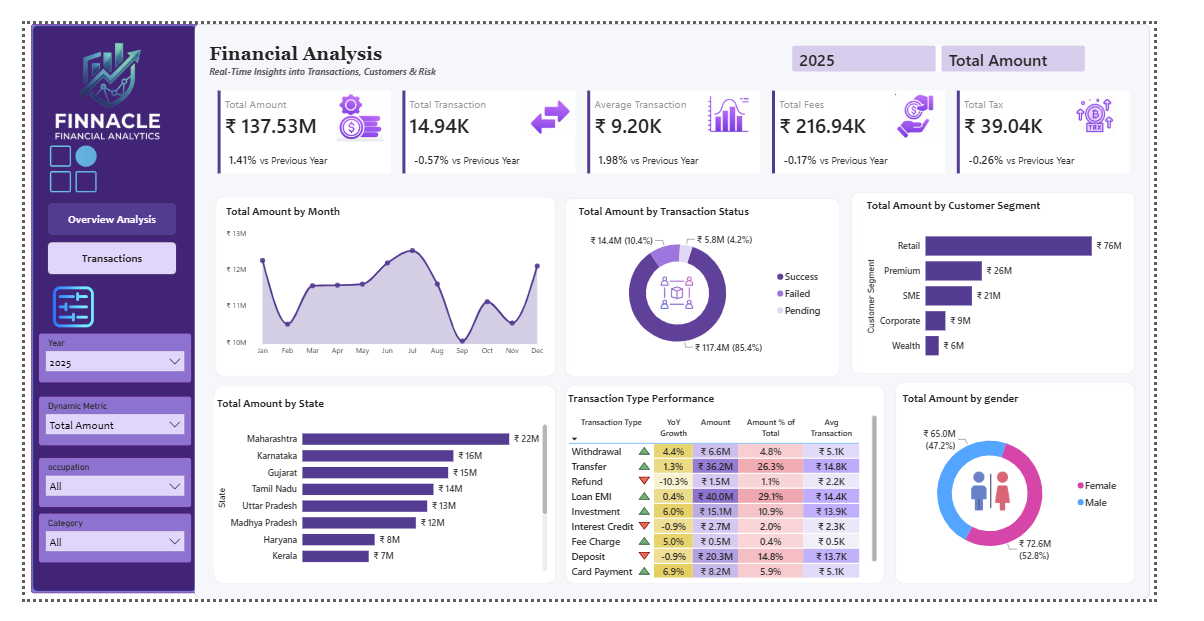

The page's visual inventory and layout, read from the dashboard file:
{"tool":"powerbi","page":{"name":"Overview Analysis","canvas":[1881,957],"ordinal":0},"visuals":[{"type":"shape","box":[10.6,0,279,948.7],"z":0},{"type":"shape","box":[282,0,1592.5,957.5],"z":1000},{"type":"image","box":[0,0,288.3,240],"z":2000},{"type":"cardVisual","fields":{"Data":["Calander table.Dashboard Title"]},"box":[290,2.5,418.8,115.4],"z":3000},{"type":"cardVisual","fields":{"Data":["finance_transactions.Total Amount","finance_transactions.Total Transaction","finance_transactions.Average Transaction","finance_transactions.Total Fees","finance_transactions.Total Tax"]},"box":[316,106,1535,150],"z":4000},{"type":"slicer","fields":{"Values":["Calander table.Year"]},"box":[22.5,515,255,83.3],"z":5000},{"type":"image","box":[516,118,86,78],"z":6000},{"type":"image","box":[838,118,76,78],"z":7000},{"type":"image","box":[1450,114,74,78],"z":8000},{"type":"image","box":[1128,118,92,64],"z":9000},{"type":"image","box":[1736,120,98,66],"z":10000},{"type":"slicer","fields":{"Values":["Dynamic Metric.Dynamic Metric"]},"box":[22.5,620,255,83],"z":11000},{"type":"shape","box":[316.7,286.7,566.7,300],"z":12000},{"type":"areaChart","fields":{"Y":["finance_transactions.Total Amount"],"Category":["Calander table.Month"]},"box":[330,300,545,262.5],"z":13000},{"type":"cardVisual","fields":{"Data":["finance_transactions.Selected Year","finance_transactions.Selected Dynamic Measure"]},"box":[1273.3,30,500,55],"z":14000},{"type":"shape","box":[900,290,457.5,297.5],"z":15000},{"type":"donutChart","fields":{"Y":["finance_transactions.Total Amount"],"Category":["finance_transactions.Transaction_status"]},"box":[917.5,300,422.5,262.5],"z":16000},{"type":"shape","box":[1377.5,280,472.5,302.5],"z":17000},{"type":"barChart","fields":{"Y":["finance_transactions.Total Amount"],"Category":["customers.customer_segment"]},"box":[1397.5,290,435,285],"z":18000},{"type":"shape","box":[315,602.5,570,330],"z":19000},{"type":"barChart","fields":{"Y":["finance_transactions.Total Amount"],"Category":["customers.state"]},"box":[315,620,560,297.5],"z":20000},{"type":"shape","box":[900,602.5,532.5,330],"z":21000},{"type":"tableEx","title":"Transaction Type Performance","fields":{"Values":["finance_transactions.Transaction_type","finance_transactions.YoY % Amount","finance_transactions.Total Amount","finance_transactions.Amount % of Total","finance_transactions.Average Transaction"]},"box":[900,612.5,525,315],"z":22000},{"type":"shape","box":[1450,597.5,400,335],"z":23000},{"type":"donutChart","fields":{"Y":["finance_transactions.Total Amount"],"Category":["customers.gender"]},"box":[1457.5,612.5,375,305],"z":24000},{"type":"image","box":[1056.7,416.7,58,60],"z":25000},{"type":"image","box":[1572,740,74,76],"z":26000},{"type":"slicer","fields":{"Values":["customers.occupation"]},"box":[22.5,722.5,255,83],"z":27000},{"type":"slicer","fields":{"Values":["finance_transactions.Merchant Category"]},"box":[22.5,815,255,83],"z":28000},{"type":"pageNavigator","box":[37.5,297.5,215,120],"z":29000},{"type":"image","box":[37.5,202.5,86,78],"z":30000},{"type":"image","box":[37.5,432.5,86,78],"z":31000}]}

Visuals, with their boxes in screenshot pixels (x1, y1, x2, y2), scaled from the page's 1881x957 canvas onto the 1204x621 screenshot:
shape: [x1=7, y1=0, x2=185, y2=616]
shape: [x1=181, y1=0, x2=1200, y2=620]
image: [x1=0, y1=0, x2=185, y2=156]
cardVisual - Calander table.Dashboard Title: [x1=186, y1=2, x2=454, y2=77]
cardVisual - finance_transactions.Total Amount x finance_transactions.Total Transaction: [x1=202, y1=69, x2=1185, y2=166]
slicer - Calander table.Year: [x1=14, y1=334, x2=178, y2=388]
image: [x1=330, y1=77, x2=385, y2=127]
image: [x1=536, y1=77, x2=585, y2=127]
image: [x1=928, y1=74, x2=975, y2=125]
image: [x1=722, y1=77, x2=781, y2=118]
image: [x1=1111, y1=78, x2=1174, y2=121]
slicer - Dynamic Metric.Dynamic Metric: [x1=14, y1=402, x2=178, y2=456]
shape: [x1=203, y1=186, x2=565, y2=381]
areaChart - finance_transactions.Total Amount x Calander table.Month: [x1=211, y1=195, x2=560, y2=365]
cardVisual - finance_transactions.Selected Year x finance_transactions.Selected Dynamic Measure: [x1=815, y1=19, x2=1135, y2=55]
shape: [x1=576, y1=188, x2=869, y2=381]
donutChart - finance_transactions.Total Amount x finance_transactions.Transaction_status: [x1=587, y1=195, x2=858, y2=365]
shape: [x1=882, y1=182, x2=1184, y2=378]
barChart - finance_transactions.Total Amount x customers.customer_segment: [x1=895, y1=188, x2=1173, y2=373]
shape: [x1=202, y1=391, x2=566, y2=605]
barChart - finance_transactions.Total Amount x customers.state: [x1=202, y1=402, x2=560, y2=595]
shape: [x1=576, y1=391, x2=917, y2=605]
"Transaction Type Performance" tableEx: [x1=576, y1=397, x2=912, y2=602]
shape: [x1=928, y1=388, x2=1184, y2=605]
donutChart - finance_transactions.Total Amount x customers.gender: [x1=933, y1=397, x2=1173, y2=595]
image: [x1=676, y1=270, x2=714, y2=309]
image: [x1=1006, y1=480, x2=1054, y2=530]
slicer - customers.occupation: [x1=14, y1=469, x2=178, y2=523]
slicer - finance_transactions.Merchant Category: [x1=14, y1=529, x2=178, y2=583]
pageNavigator: [x1=24, y1=193, x2=162, y2=271]
image: [x1=24, y1=131, x2=79, y2=182]
image: [x1=24, y1=281, x2=79, y2=331]
